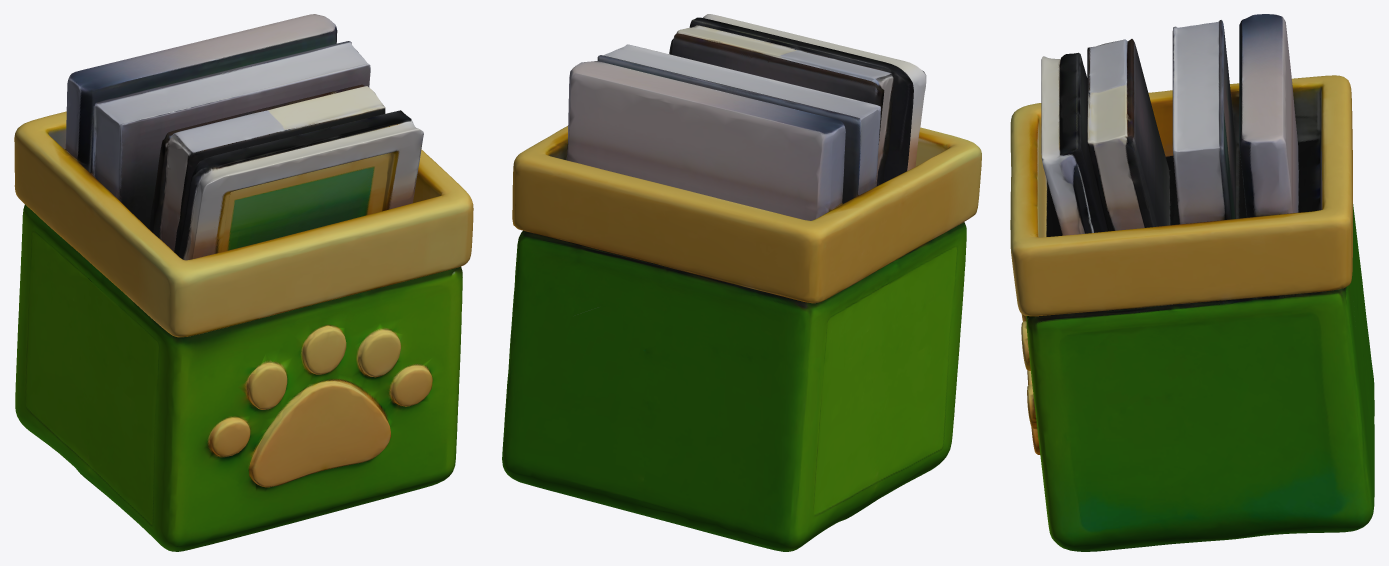
Rendered from tripo_convert_ea4cbad4-55e4-47a1-a04f-56c2bc04fb1c.fbx.
3 renders of one model, left to right at view 1: azimuth 30°, elevation 25°; view 2: azimuth 150°, elevation 25°; view 3: azimuth 270°, elevation 25°, orthographic. The views are drawn at different scales.
Parts seen in each view (by area): view 1: tripo_node_ea4cbad4; view 2: tripo_node_ea4cbad4; view 3: tripo_node_ea4cbad4.
Part boxes in pixels (left/top/right/bottom): tripo_node_ea4cbad4: left=14, top=14, right=473, bottom=551; tripo_node_ea4cbad4: left=502, top=14, right=981, bottom=551; tripo_node_ea4cbad4: left=1010, top=14, right=1374, bottom=551.
Bounding box in the file's own units: 77.66 × 78.79 × 100.
Materials: 1 (1 with a texture image).
